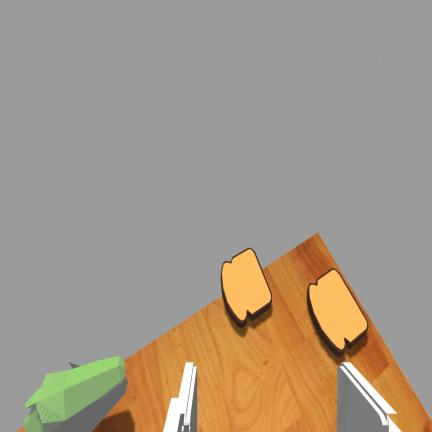lettuce: (24, 356, 127, 431)
sliced_bread: (307, 269, 368, 356), (221, 249, 271, 326)
